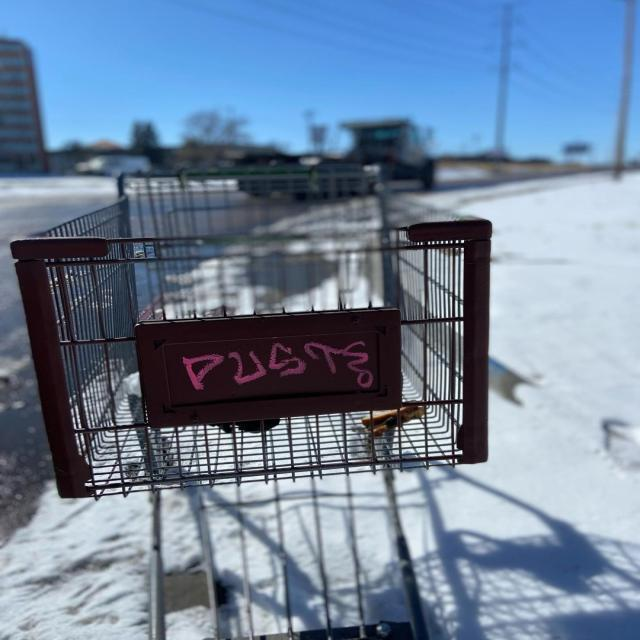nonspitting: (179, 341, 376, 393)
